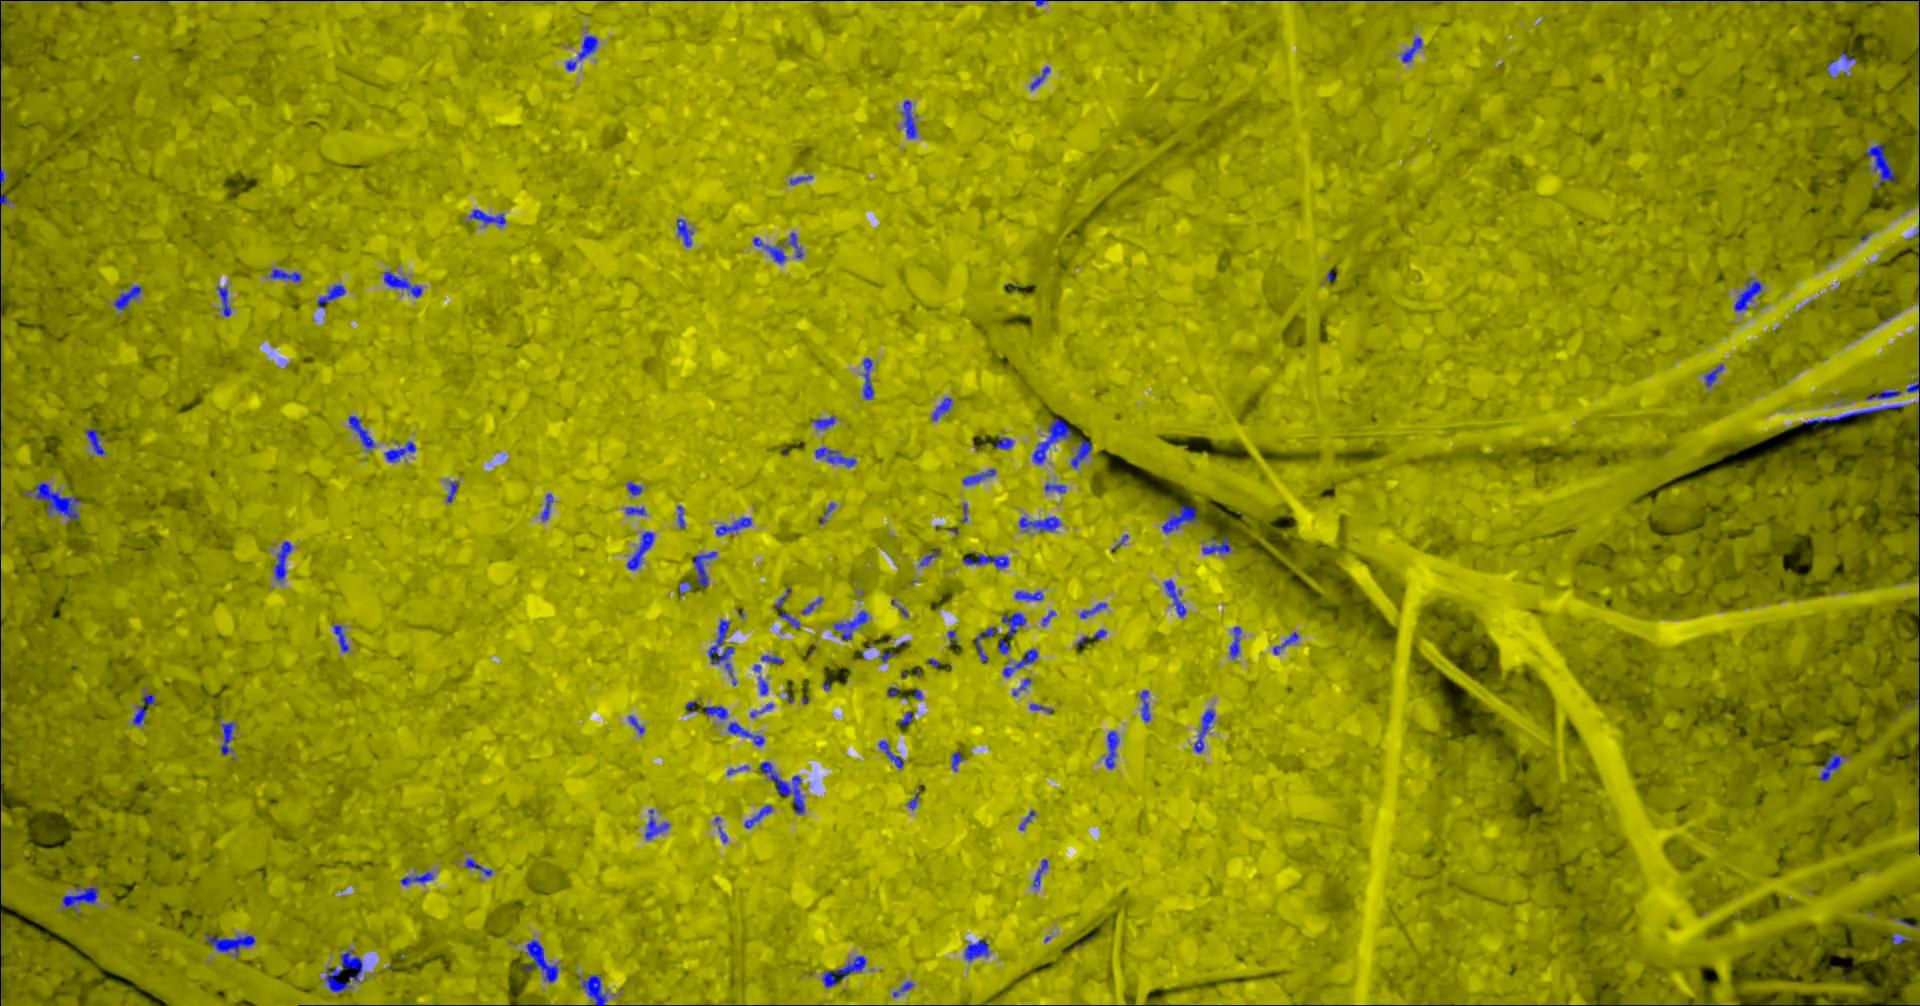ant: (25, 481, 81, 523), (759, 761, 804, 813), (1803, 404, 1903, 424), (1032, 417, 1070, 464), (324, 949, 362, 991), (523, 939, 557, 982), (707, 619, 733, 676), (822, 955, 865, 987), (1865, 142, 1895, 184), (204, 934, 255, 956), (1161, 504, 1197, 533), (833, 610, 867, 640), (1002, 648, 1037, 677), (383, 271, 422, 297), (626, 531, 653, 569), (1192, 708, 1214, 752), (1733, 278, 1761, 311), (578, 974, 607, 1005), (728, 721, 764, 746), (348, 415, 375, 448), (692, 551, 716, 587), (814, 447, 856, 467), (1163, 579, 1186, 616), (752, 238, 785, 263), (62, 885, 97, 909), (1818, 752, 1845, 781), (975, 627, 997, 663), (273, 541, 292, 580), (644, 809, 668, 840), (132, 694, 155, 725), (963, 553, 1008, 568), (877, 741, 903, 767), (317, 283, 345, 307), (113, 285, 141, 309), (744, 804, 772, 828), (383, 441, 415, 461), (1018, 516, 1060, 531), (715, 517, 750, 535), (469, 210, 505, 226), (1070, 438, 1091, 467), (900, 100, 916, 138), (1272, 631, 1298, 654), (1001, 612, 1025, 635), (963, 467, 996, 484), (1203, 535, 1230, 554), (1401, 37, 1421, 62), (963, 940, 988, 960), (463, 857, 491, 875), (577, 36, 597, 60), (1029, 66, 1049, 90), (85, 429, 105, 453), (1105, 730, 1117, 768), (931, 398, 951, 420), (676, 218, 692, 246), (331, 624, 348, 652), (220, 721, 234, 754), (400, 871, 433, 885), (1032, 859, 1048, 888), (1079, 602, 1106, 619), (216, 286, 230, 316), (862, 357, 872, 399), (1704, 365, 1723, 386), (753, 664, 767, 694), (269, 268, 300, 281), (701, 705, 728, 719), (773, 587, 790, 608), (891, 981, 913, 997), (789, 232, 803, 258), (540, 493, 552, 521), (919, 547, 938, 565), (801, 597, 822, 614), (1140, 690, 1150, 721), (811, 415, 834, 429), (749, 702, 772, 716), (1018, 810, 1035, 829), (778, 612, 799, 627), (1229, 626, 1239, 657), (1865, 390, 1900, 399), (627, 716, 644, 734), (994, 434, 1013, 448), (446, 481, 458, 502), (1015, 591, 1043, 600), (951, 751, 963, 771), (626, 481, 641, 495), (789, 175, 811, 184), (676, 506, 684, 528), (998, 636, 1010, 654), (1905, 379, 1919, 392), (897, 711, 910, 725), (1044, 483, 1065, 492), (623, 506, 645, 514), (759, 655, 783, 663), (677, 580, 691, 593), (947, 630, 957, 645)
